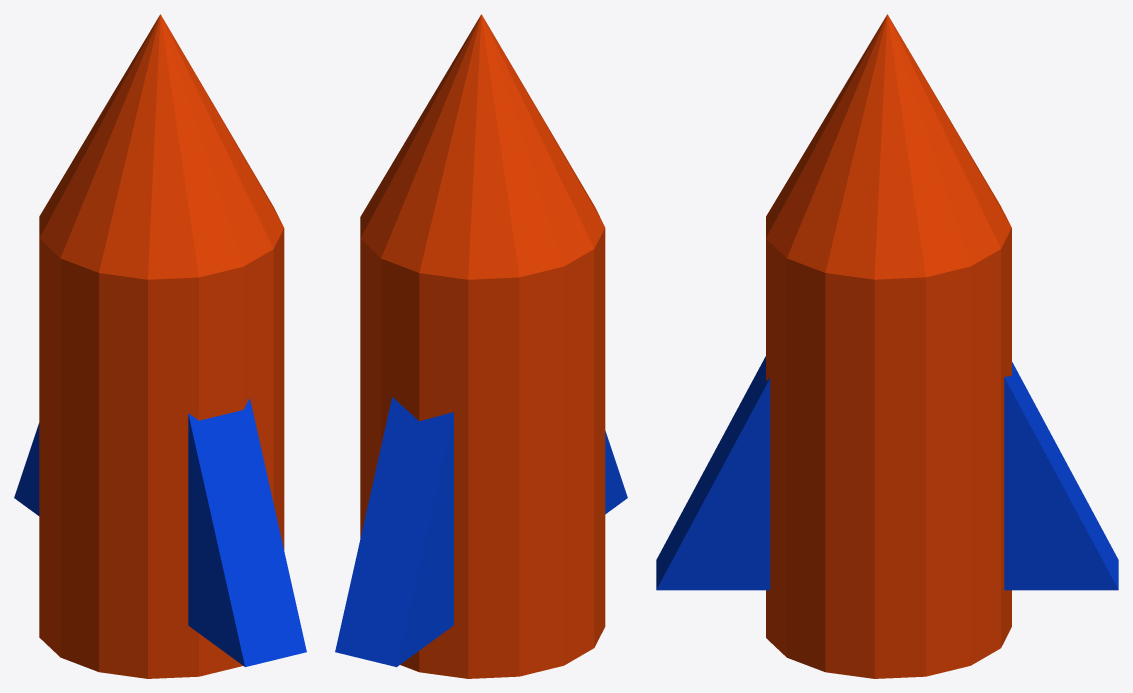
File: Suszan 3.fbx
3 renders of one model, left to right at view 1: azimuth 30°, elevation 25°; view 2: azimuth 150°, elevation 25°; view 3: azimuth 270°, elevation 25°, orthographic.
Parts seen in each view (by area): view 1: Cone; view 2: Cone; view 3: Cone.
Part boxes in pixels (x1,y1,x2,y2): Cone: (14,14,306,678); Cone: (335,14,627,678); Cone: (656,14,1118,678).
Bounding box in the file's own units: 20 × 55 × 37.61.
